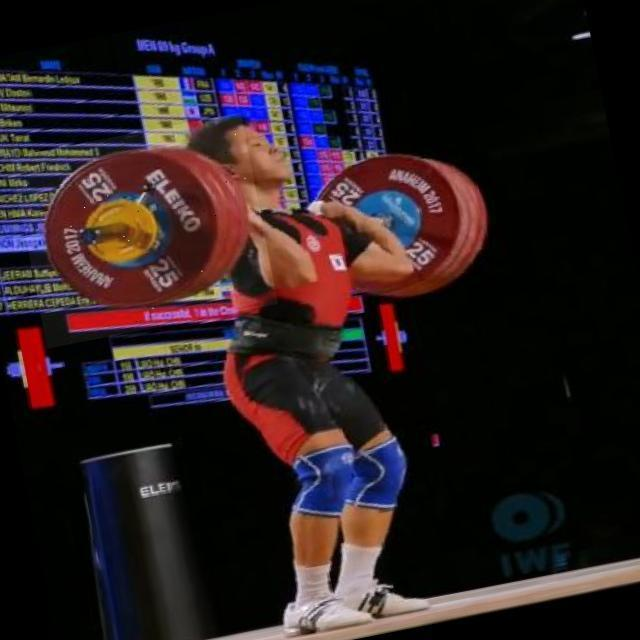barbell: (11, 114, 279, 350)
